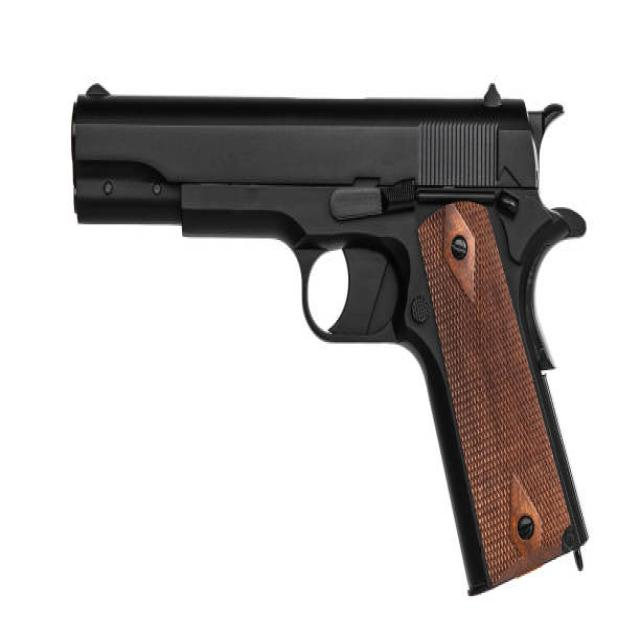pistol: (69, 66, 597, 606)
